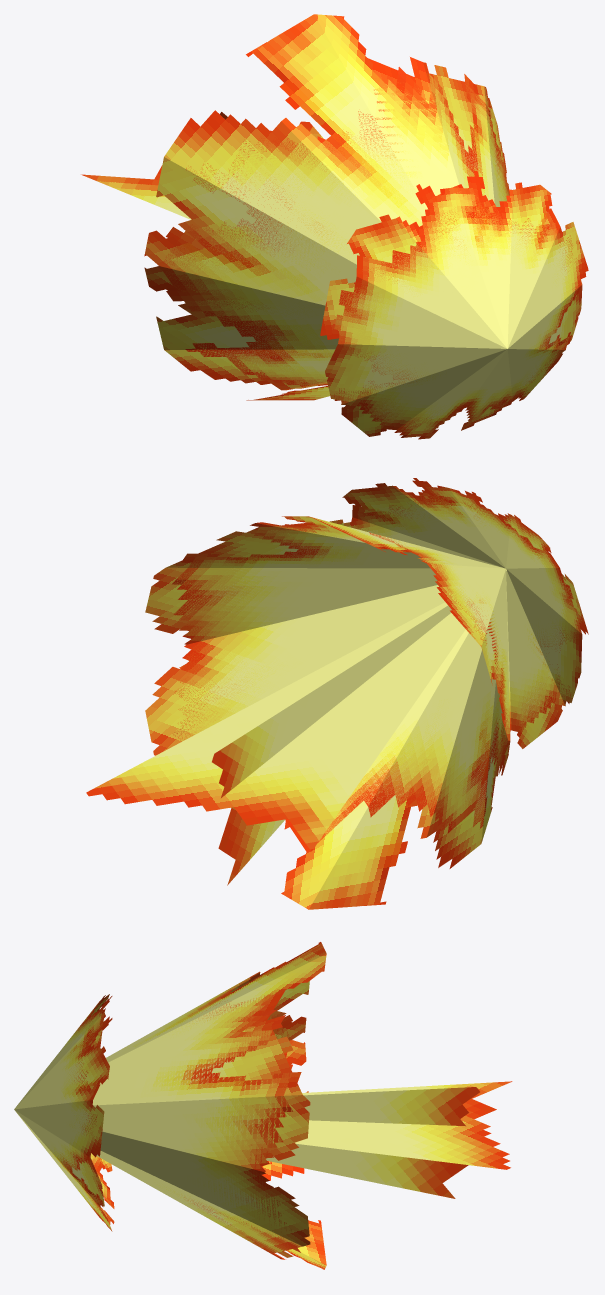
File: MuzzleFlash.fbx
The picture shows the model from 3 angles, top to bottom: view 1: azimuth 30°, elevation 25°; view 2: azimuth 150°, elevation 25°; view 3: azimuth 270°, elevation 25°; orthographic projection. The views are drawn at different scales.
Visible parts, largest first — view 1: Muzzleflash; view 2: Muzzleflash; view 3: Muzzleflash.
Part boxes in pixels (left/top/right/bottom): Muzzleflash: left=81, top=14, right=588, bottom=439; Muzzleflash: left=86, top=478, right=588, bottom=909; Muzzleflash: left=14, top=942, right=512, bottom=1269.
Size of the model in its own units: 0.2473 by 0.2473 by 0.4149.
